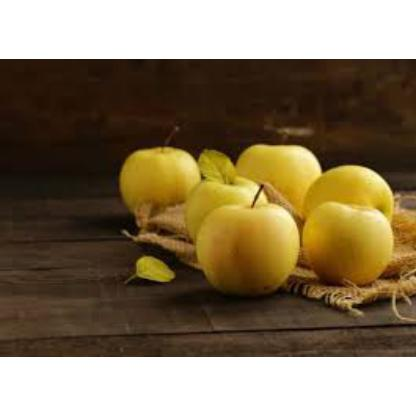apple: (301, 197, 401, 283), (195, 206, 292, 294), (235, 136, 319, 212), (119, 143, 206, 213), (310, 157, 396, 227), (175, 173, 269, 234)
